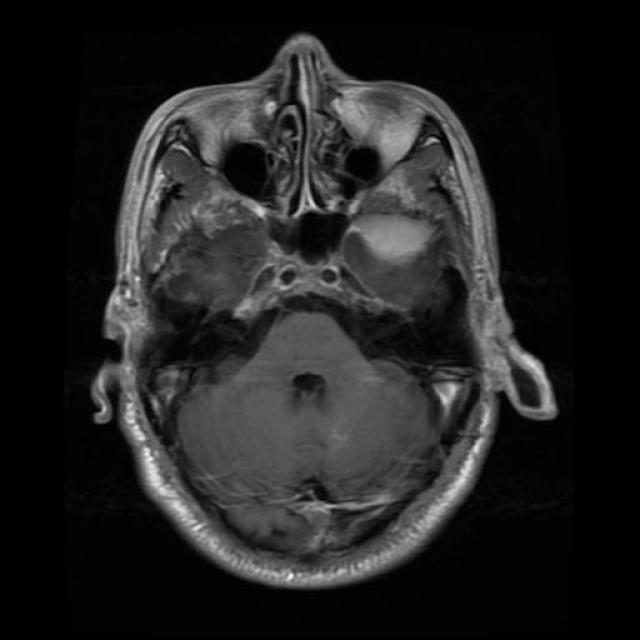meningioma: (338, 183, 427, 267)
